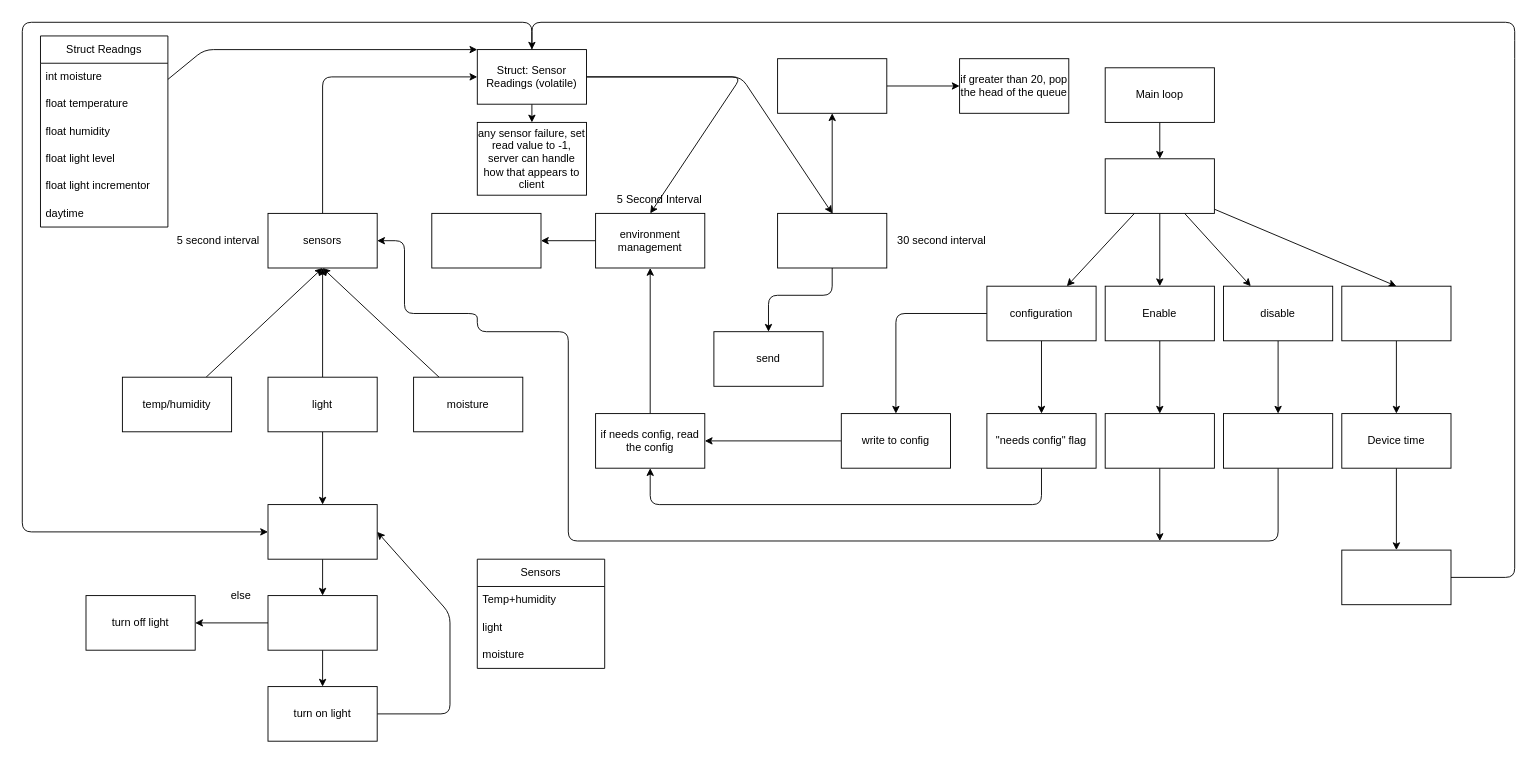
This 1538x757 diagram has some shape labels left out. Each missing label, with the centre of its shape:
API: the point at 832,240
day is in 5 second increments. If threshold not met AND is nighttime: the point at 322,622
Execute mgmt tasks: the point at 486,240
if light above threshold, increment, or light on (incrementor): the point at 322,531
if network failure, append to message queue (20 length): the point at 832,85
Receive: the point at 1159,185
set object flags, disable all processes except for reception: the point at 1278,440
set object flags, enable all processes: the point at 1159,440
set time flag, daytime/nighttime: the point at 1396,577
time sync: the point at 1396,313
